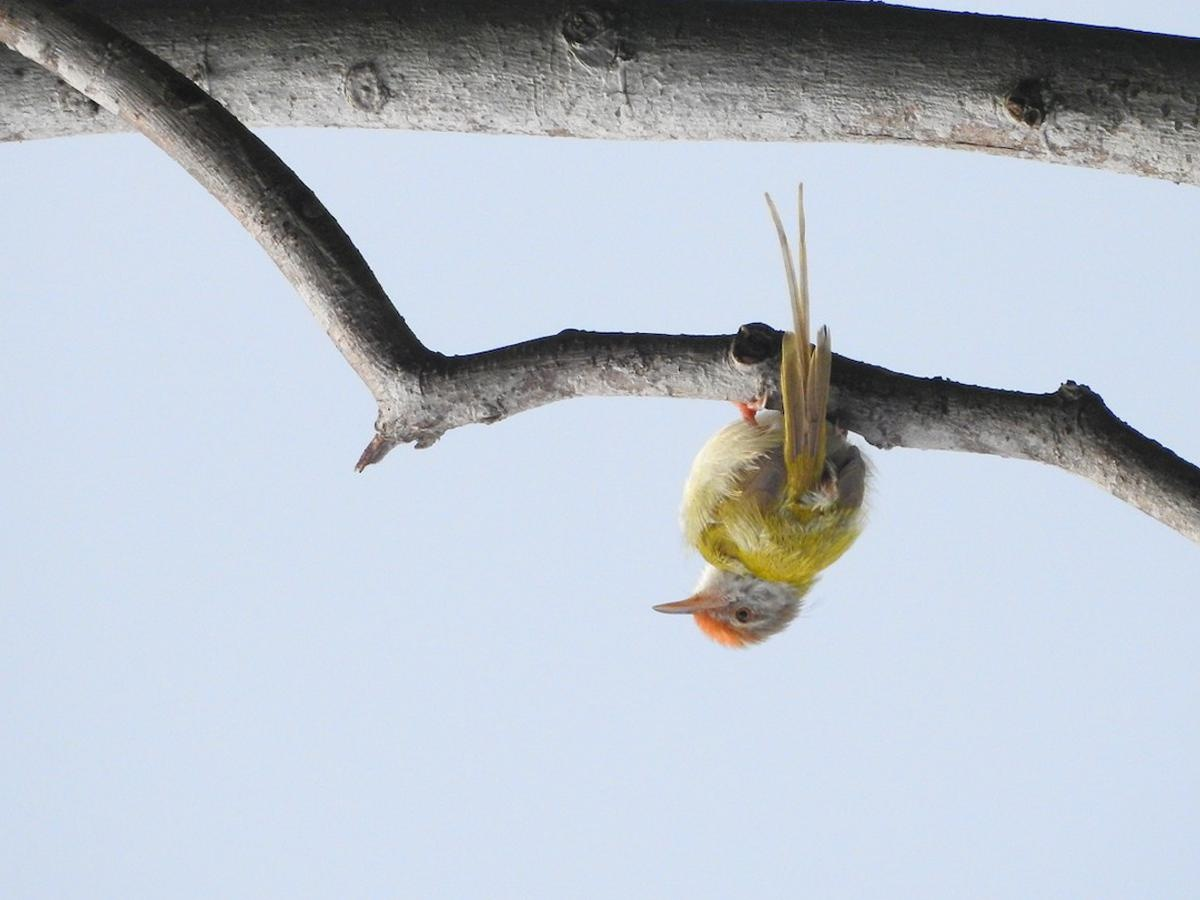tailorbird: (624, 247, 908, 668)
